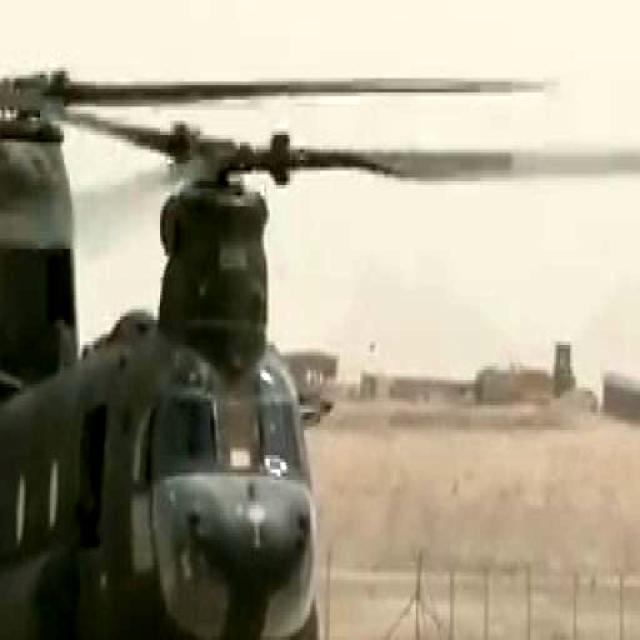drone: (0, 45, 640, 640)
